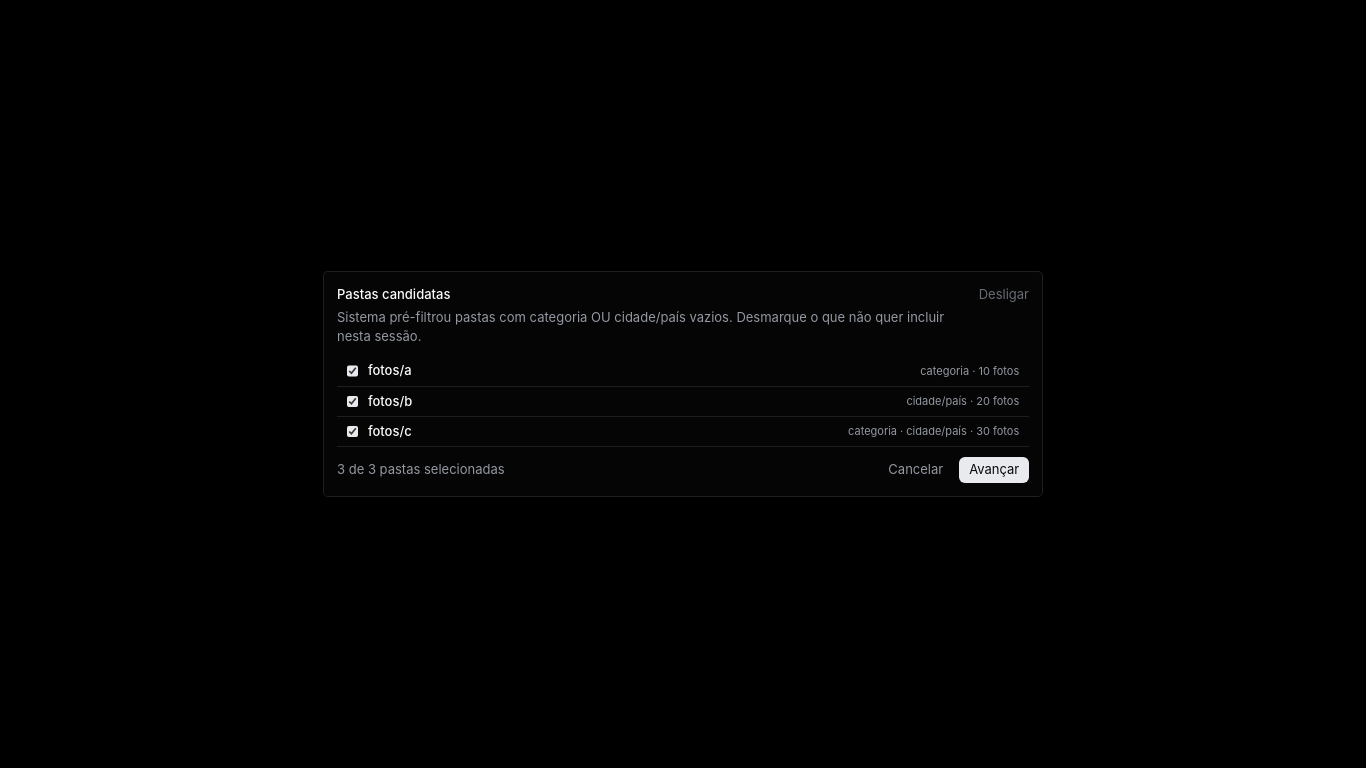
Scenario: ClassificacaoPasta › desmarcar atualiza a contagem e o botão
Expected: the text "3 de 3 pastas selecionadas" is shown, 337,460 -> 505,480
Click the checkbox named "Incluir fotos/a": (352, 371) 347,365 -> 358,377
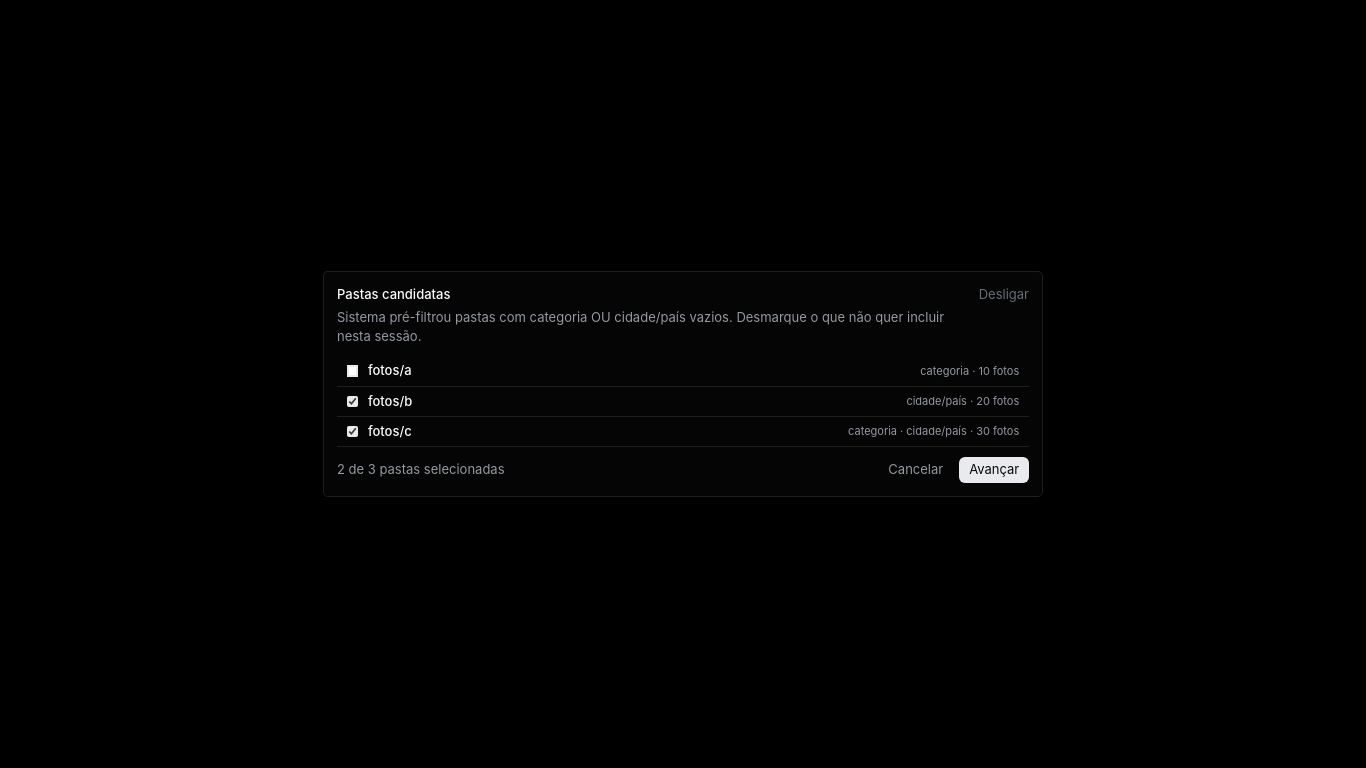
Click the checkbox named "Incluir fotos/b": (352, 401) 347,396 -> 358,407
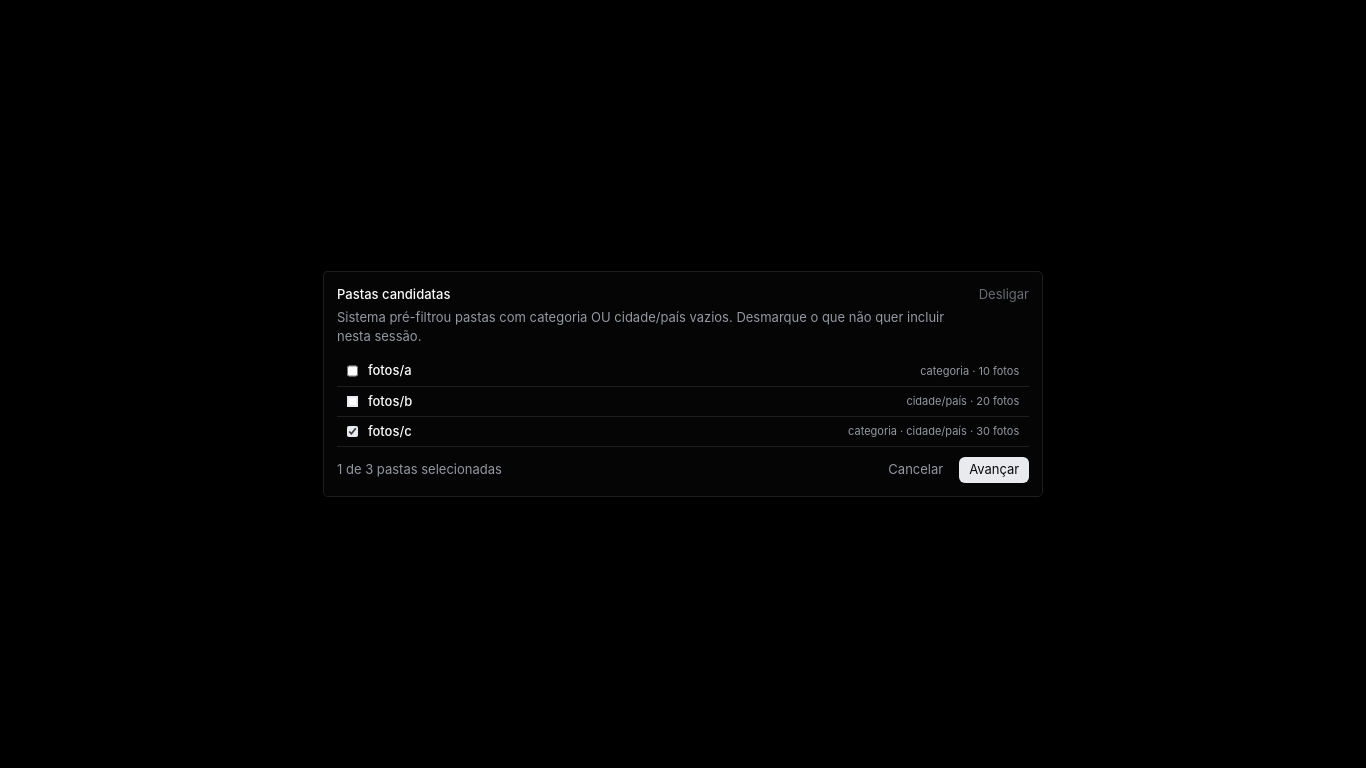
Click the checkbox named "Incluir fotos/c": (352, 432) 347,426 -> 358,437
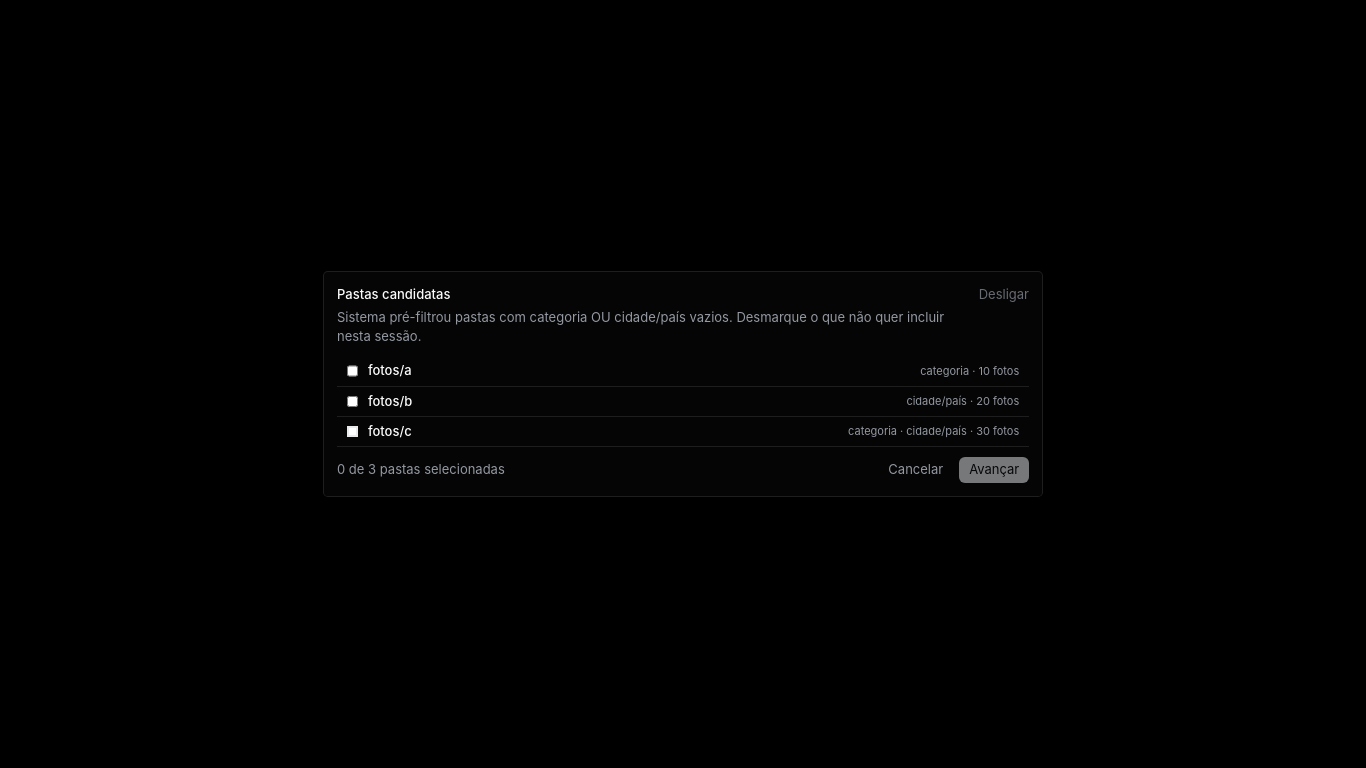
Result: the text "0 de 3 pastas selecionadas" is shown at 337,460 -> 505,480
Result: the button "Avançar" is disabled at 959,457 -> 1029,483
